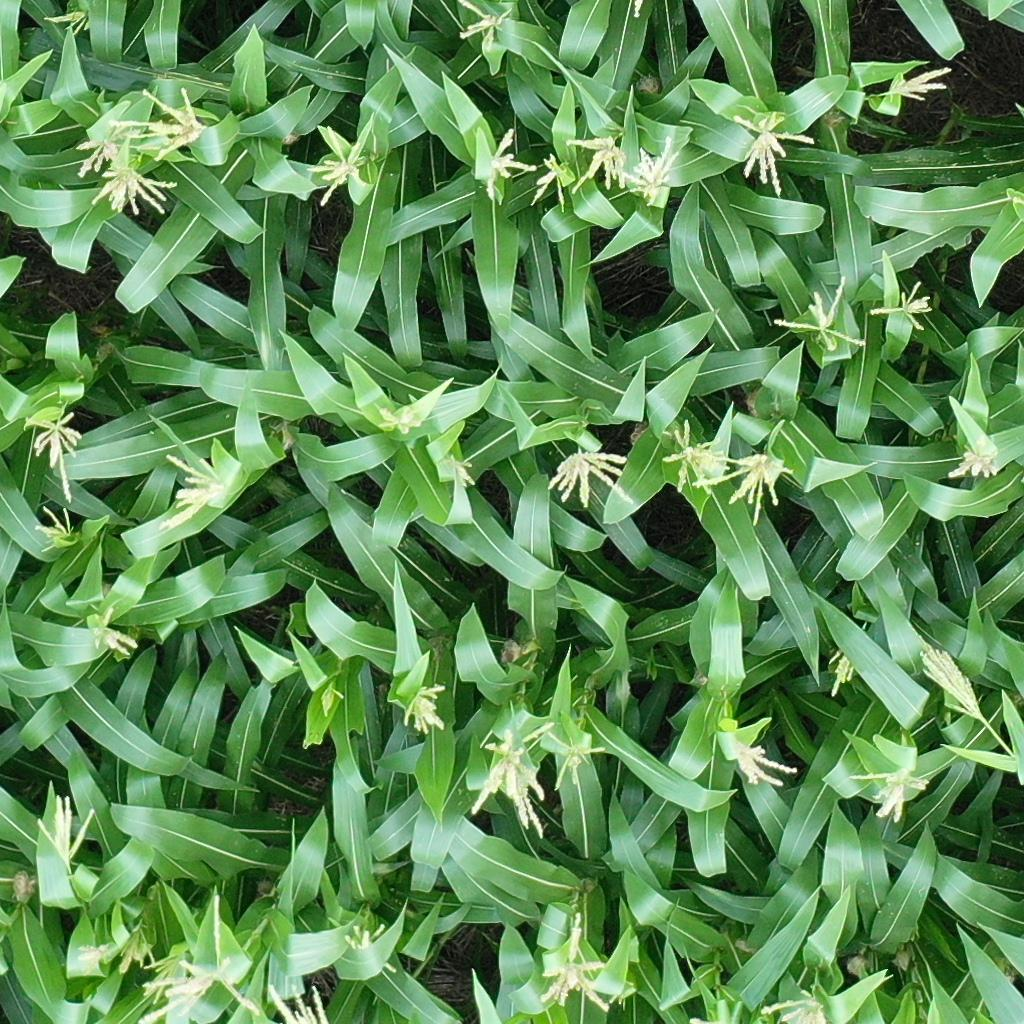Tassel: (141, 892, 258, 1024), (468, 720, 563, 836), (533, 910, 613, 1013), (110, 78, 207, 156), (774, 276, 867, 352), (732, 116, 817, 199), (708, 453, 799, 527), (156, 446, 228, 533), (545, 450, 639, 514), (27, 407, 89, 503), (304, 127, 372, 209), (916, 645, 985, 720), (664, 420, 728, 498), (90, 164, 178, 219), (35, 792, 99, 866), (848, 767, 930, 823), (477, 125, 536, 200), (728, 733, 803, 790), (622, 139, 680, 204), (564, 137, 628, 192), (549, 727, 604, 790), (872, 281, 938, 332), (74, 936, 159, 975), (885, 61, 956, 107), (74, 124, 133, 178), (340, 921, 399, 974), (455, 1, 514, 52), (758, 985, 835, 1024), (403, 679, 454, 735), (260, 982, 328, 1024), (85, 607, 138, 658), (29, 504, 77, 556), (529, 152, 568, 211), (374, 391, 426, 434), (822, 646, 859, 700), (948, 446, 1004, 481), (40, 12, 93, 41), (316, 682, 349, 720), (449, 458, 477, 491)
